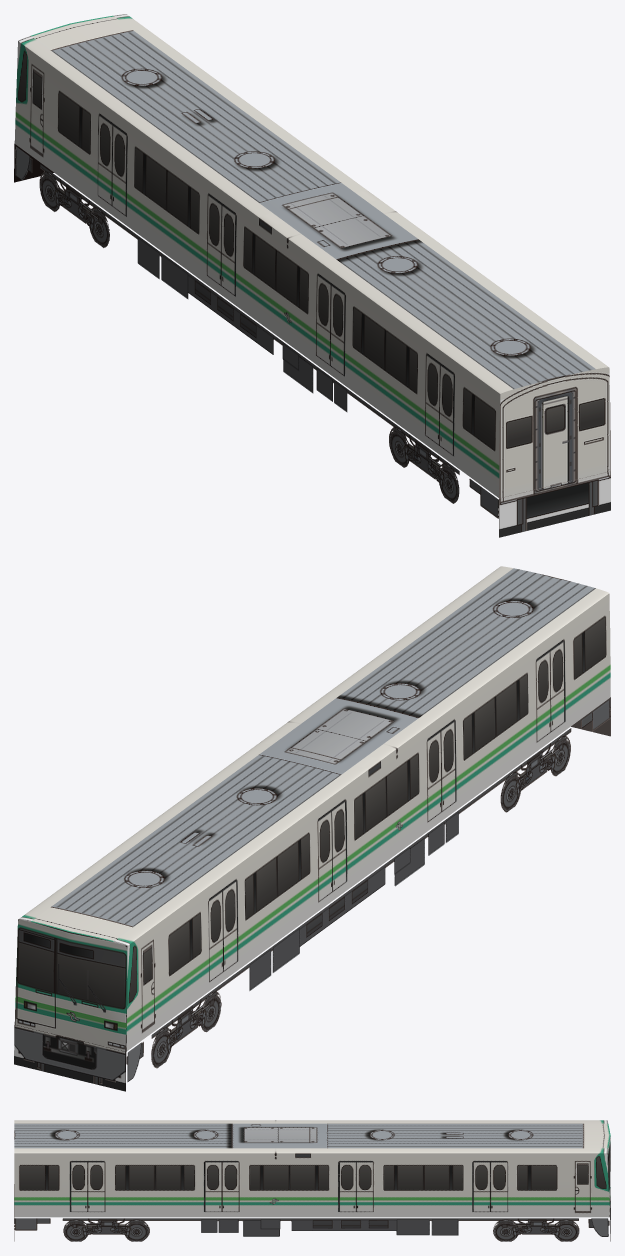
Rendered from car4.glb.
3 views of the same model, one above another, from view 1: azimuth 30°, elevation 25°; view 2: azimuth 150°, elevation 25°; view 3: azimuth 270°, elevation 25° (orthographic). The views are drawn at different scales.
Visible parts, largest first — view 1: car4.glb; view 2: car4.glb; view 3: car4.glb.
Boxes of the visible parts, left/top/right/bottom form: car4.glb: left=14, top=14, right=610, bottom=537; car4.glb: left=14, top=566, right=610, bottom=1091; car4.glb: left=14, top=1120, right=610, bottom=1241.
Bounding box in the file's own units: 2.89 × 3.6 × 21.78.
Materials: 7 (6 with a texture image).
